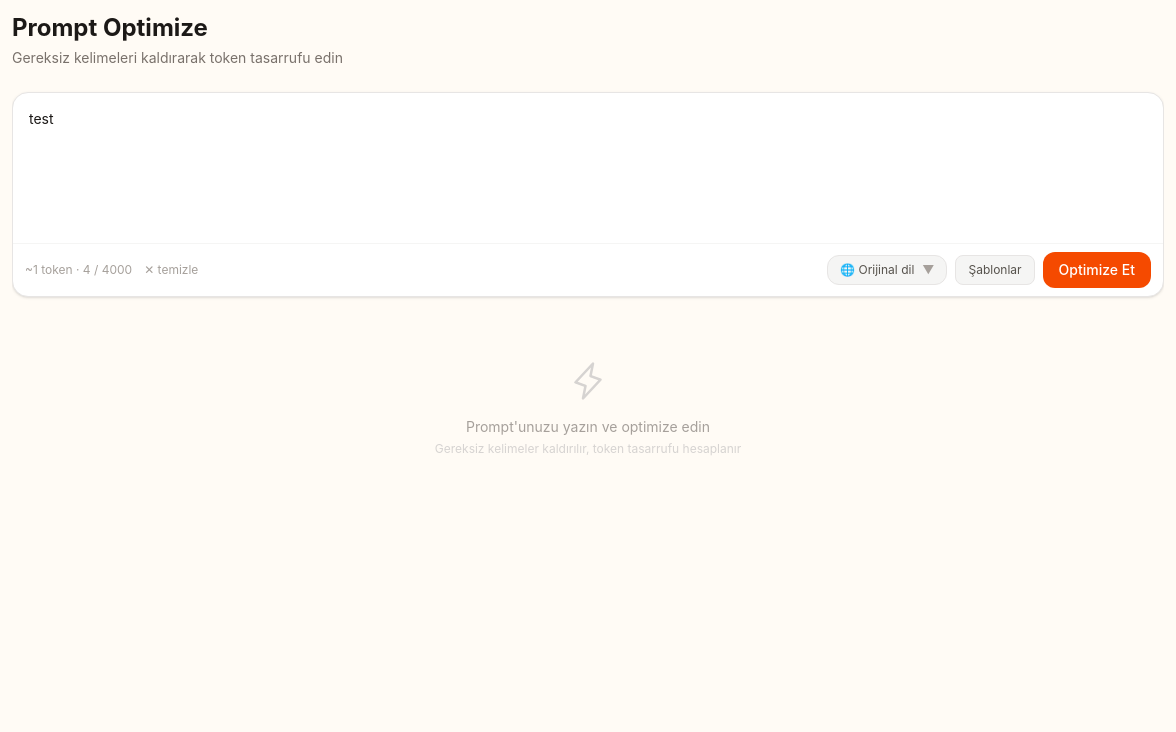
it: Optimize — "Optimize Et" butonu › loading sırasında "Optimize ediliyor..." yazmalı ve disabled olmalı
What coordinates should you click on to do the following:
click the button "Optimize Et"
I would click on:
 (1097, 270)
Its box is [1043, 252, 1151, 288].
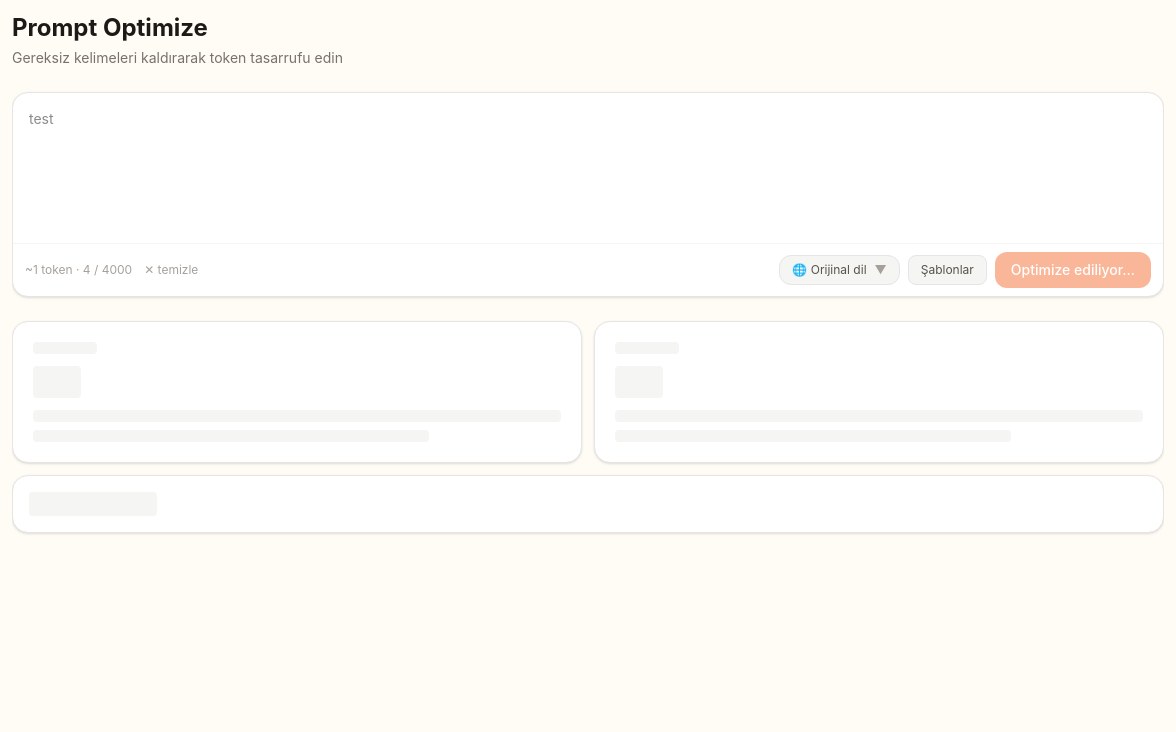
Expected: the button "Optimize ediliyor..." is disabled, [995, 252, 1151, 288]
